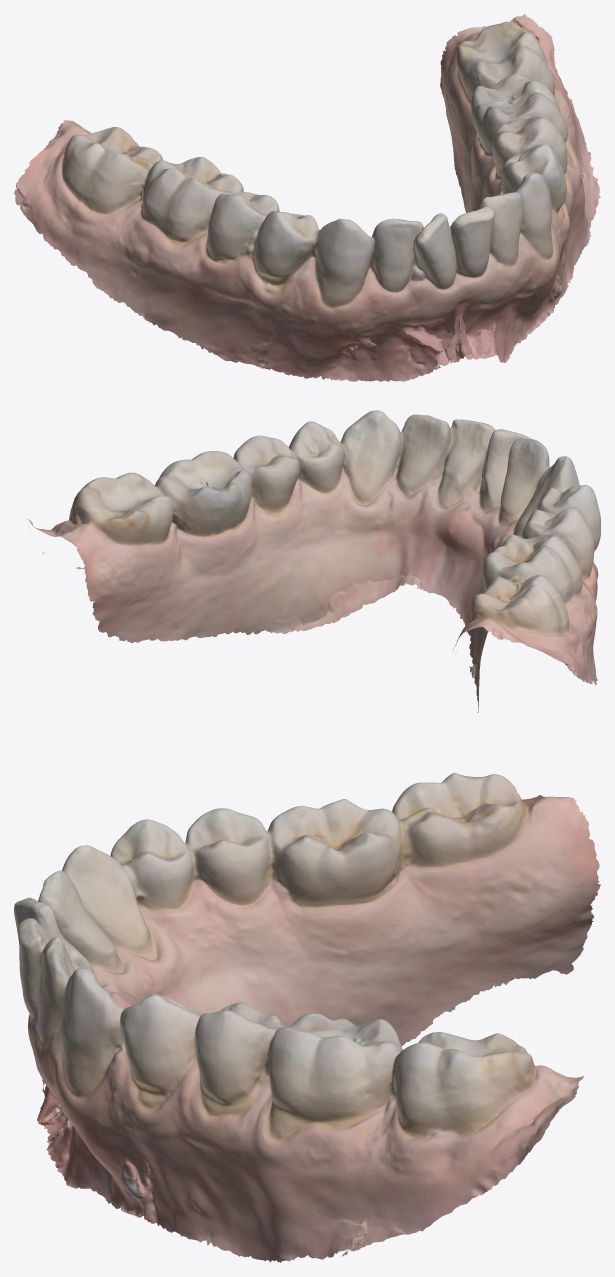
File: unterkiefer.glb
3 renders of one model, top to bottom at view 1: azimuth 30°, elevation 25°; view 2: azimuth 150°, elevation 25°; view 3: azimuth 270°, elevation 25°, orthographic. The views are drawn at different scales.
Visible parts, largest first — view 1: unterkiefer; view 2: unterkiefer; view 3: unterkiefer.
Part boxes in pixels (x1,y1,x2,y2): unterkiefer: [14, 14, 600, 381]; unterkiefer: [26, 410, 600, 712]; unterkiefer: [14, 773, 600, 1262].
Size of the model in its own units: 0.0733 by 0.0232 by 0.0509.
